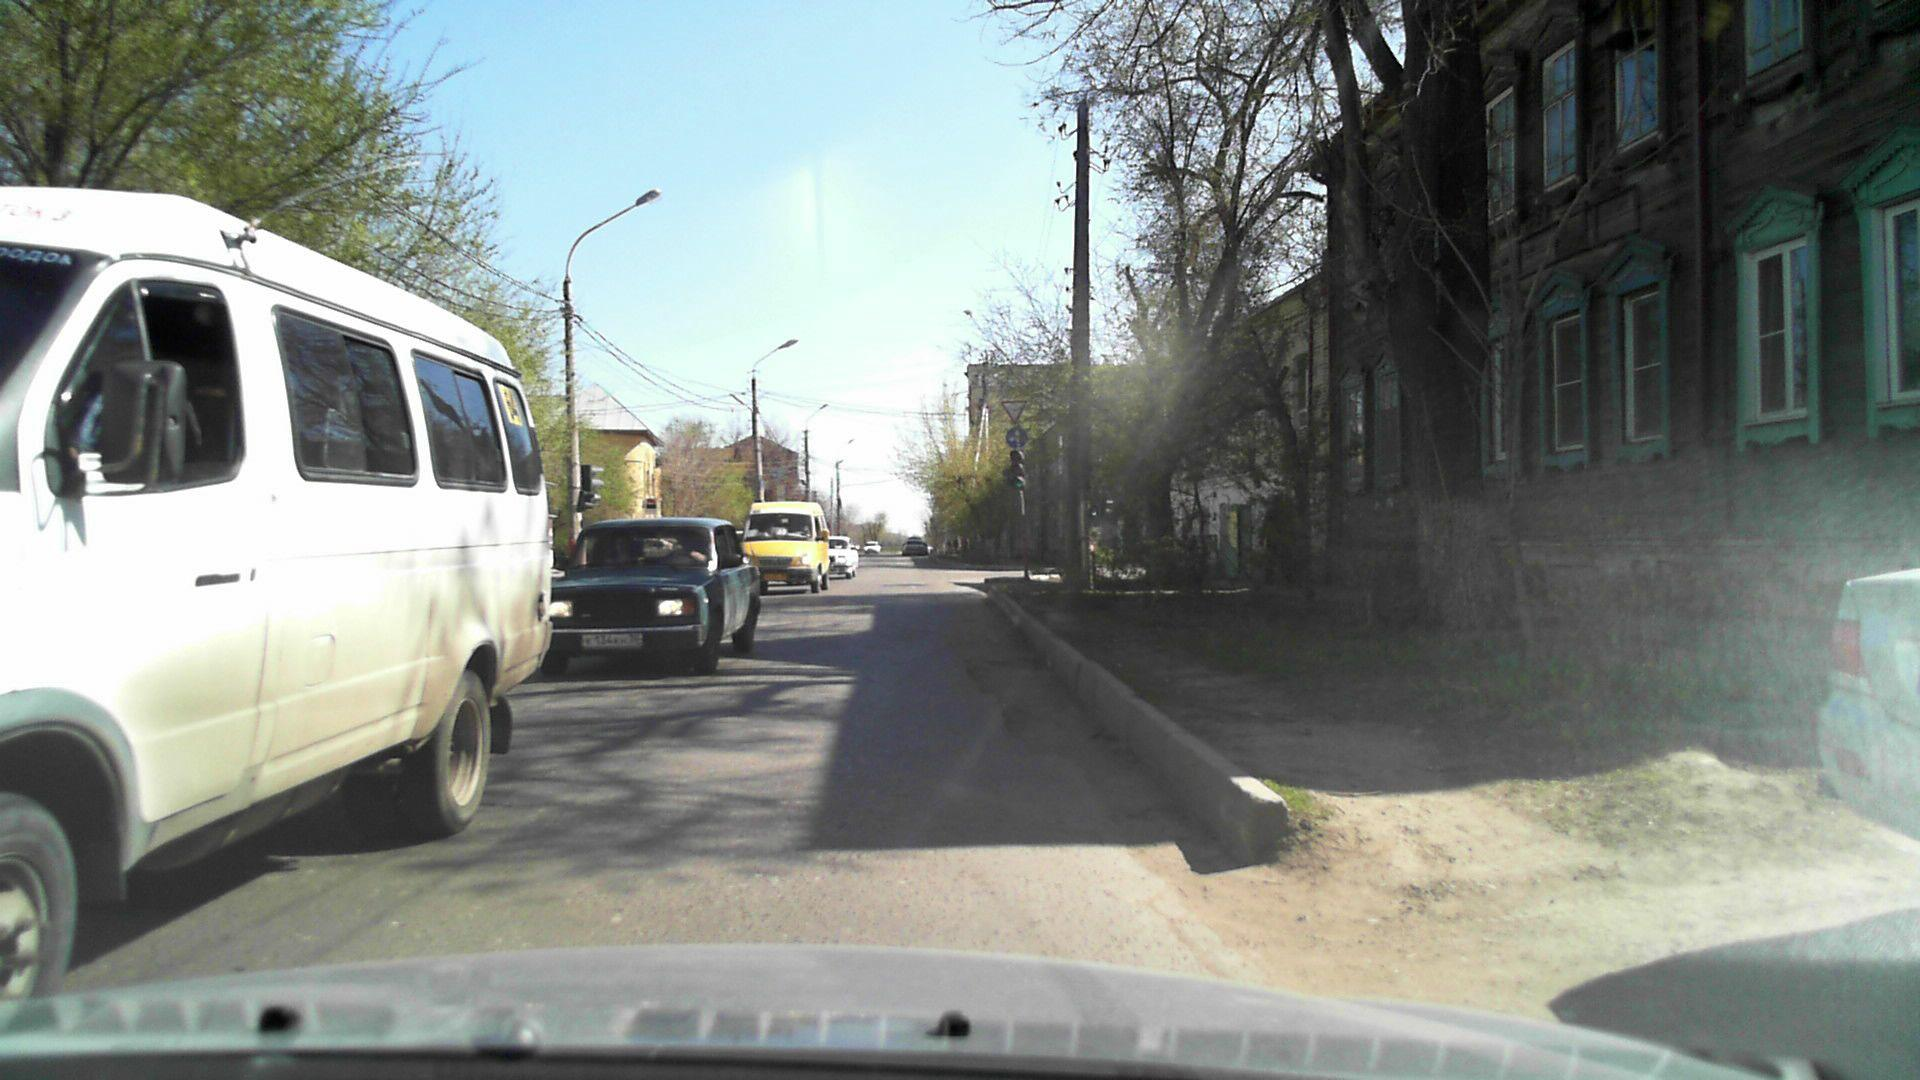2_4: (1000, 397, 1031, 423)
4_1_5: (1005, 425, 1029, 450)
